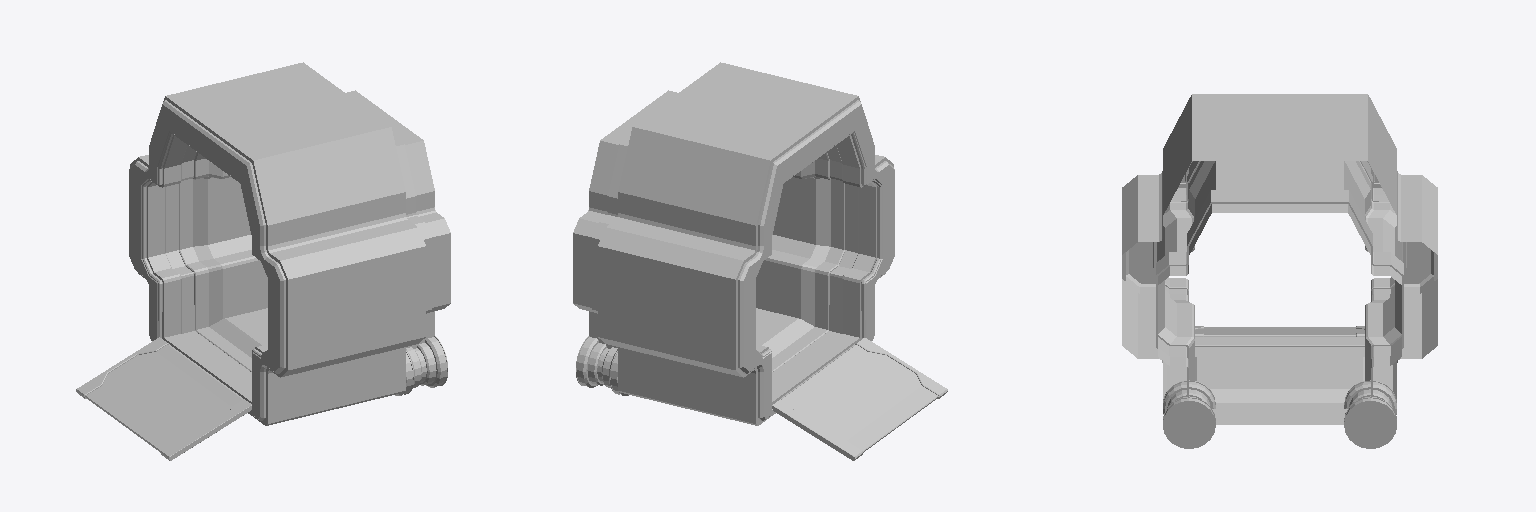
File: DOOR_REPLACE.obj
3 views of the same model, side by side, from view 1: azimuth 30°, elevation 25°; view 2: azimuth 150°, elevation 25°; view 3: azimuth 270°, elevation 25° (orthographic).
Parts seen in each view (by area): view 1: polySurface20; view 2: polySurface20; view 3: polySurface20.
Boxes of the visible parts, <box> form: polySurface20: <box>76,62,450,460</box>; polySurface20: <box>573,62,947,460</box>; polySurface20: <box>1122,94,1437,448</box>.
Bounding box in the file's own units: 16.62 × 16.52 × 16.99.